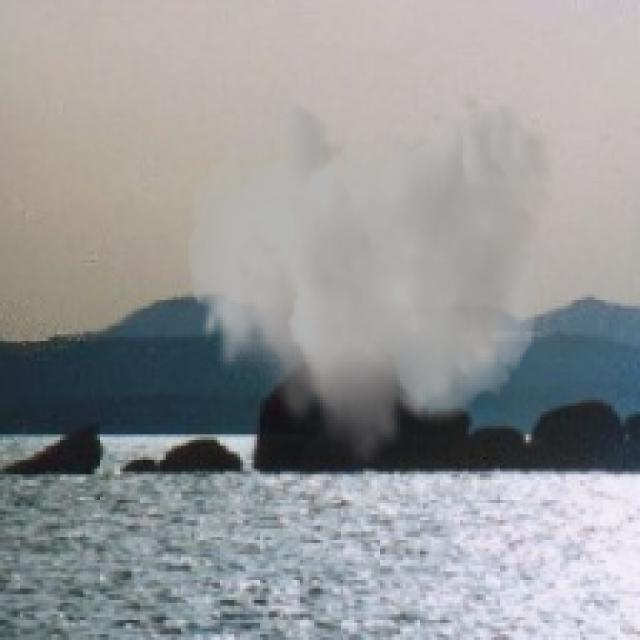smoke: (189, 91, 554, 472)
